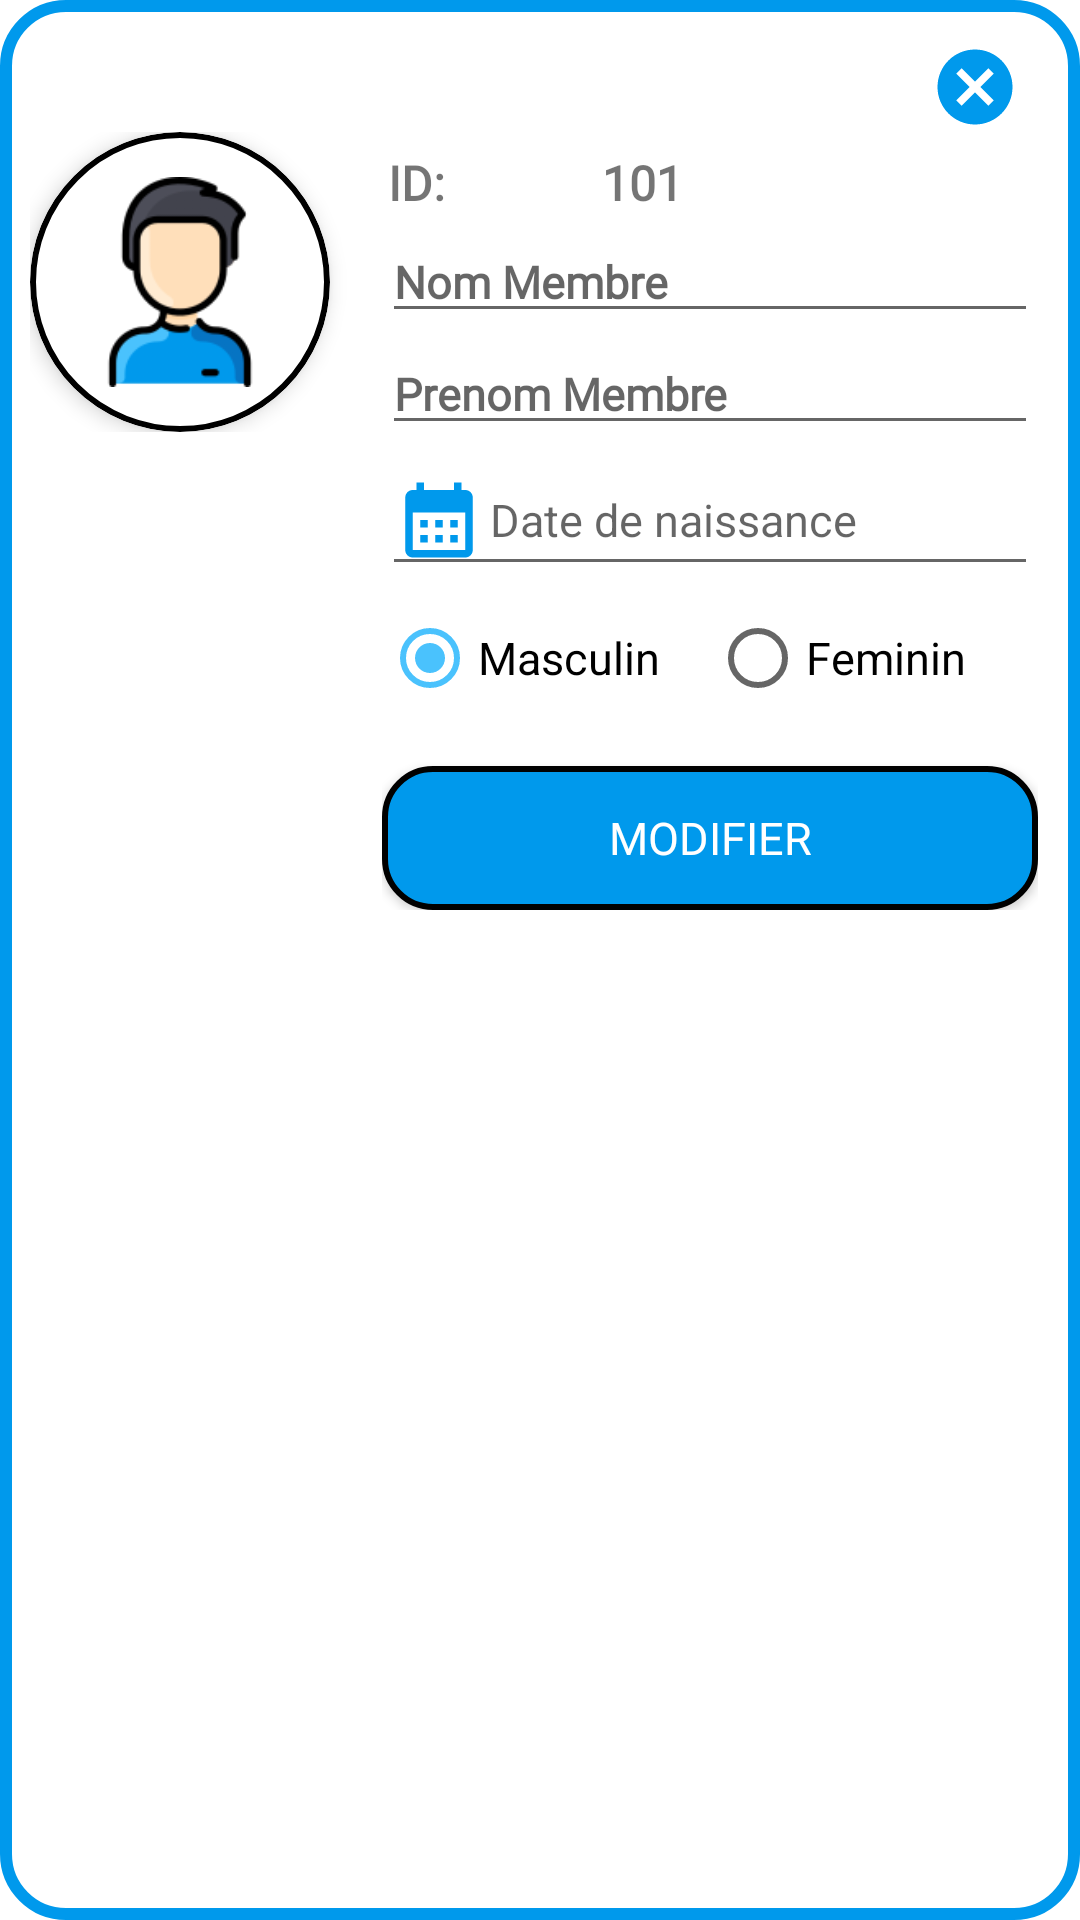

Screen size 1080 × 1920. Icon name, then its center in pixels as (x,y):
cancel: (975,87)
user: (180,282)
